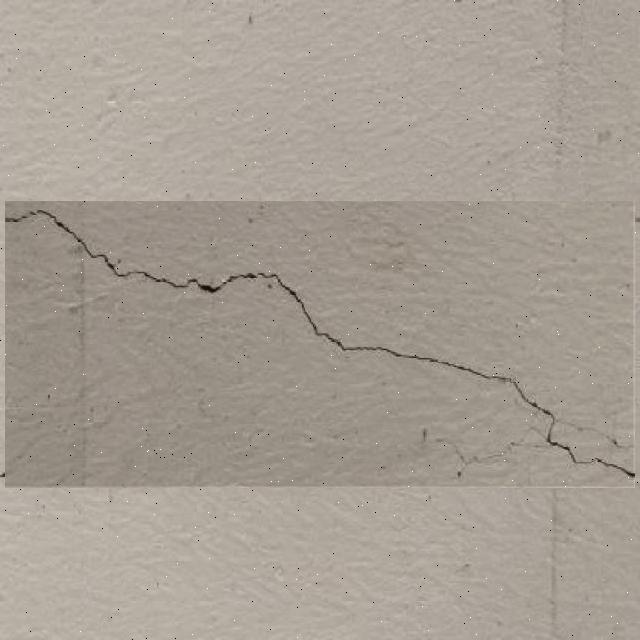crack: (6, 205, 636, 480)
